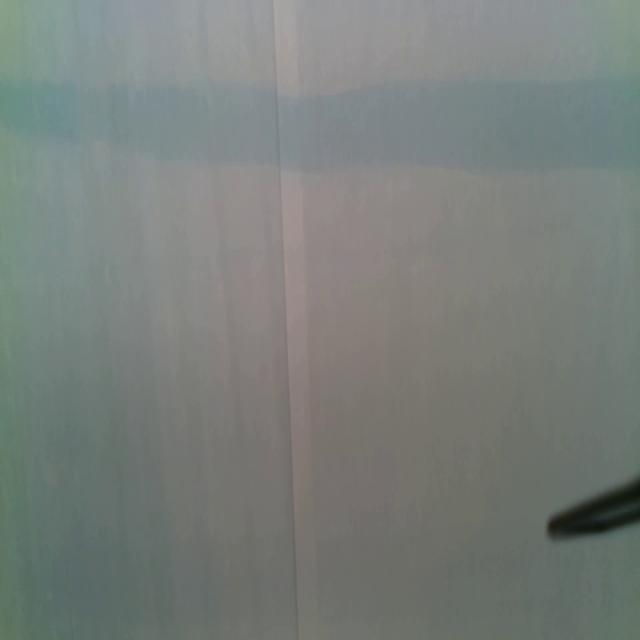color bleeding: (0, 74, 640, 172)
crease: (272, 0, 303, 640)
